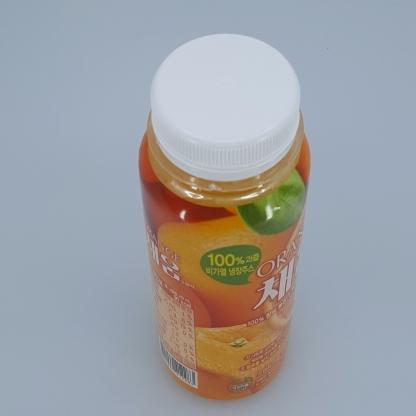--------210ML: (138, 32, 311, 401)
